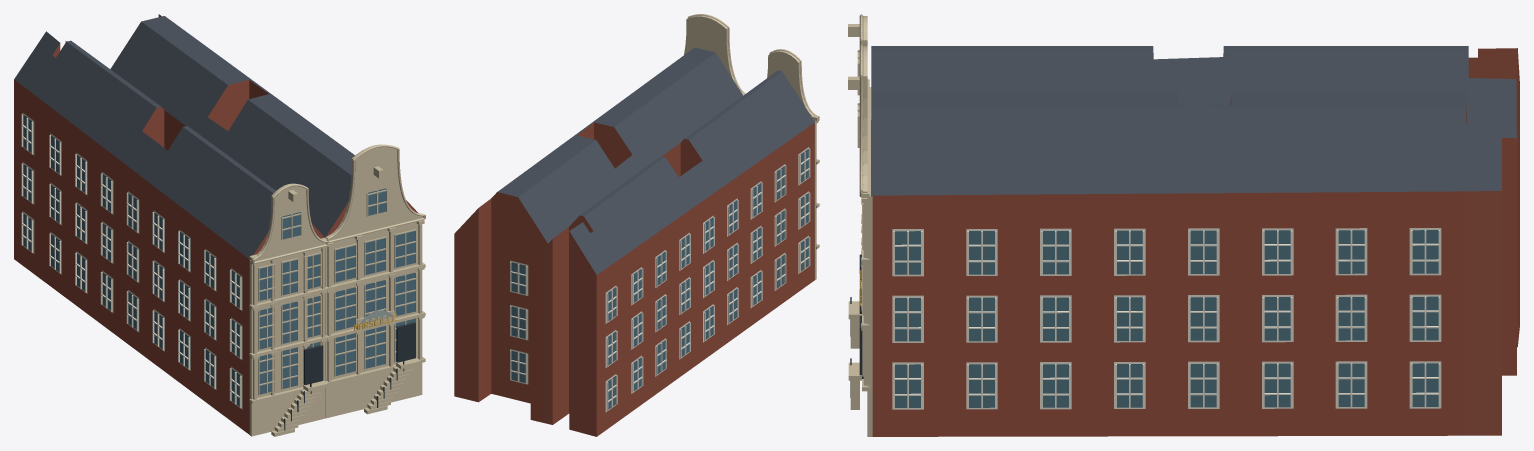
The model's file is huis-marseille.glb.
3 views of the same model, side by side, from view 1: azimuth 30°, elevation 25°; view 2: azimuth 150°, elevation 25°; view 3: azimuth 270°, elevation 25° (orthographic). The views are drawn at different scales.
Visible parts, largest first — view 1: huis-marseille; view 2: huis-marseille; view 3: huis-marseille.
Part boxes in pixels (bbox=[...]): huis-marseille: bbox=[14, 14, 425, 436]; huis-marseille: bbox=[454, 14, 819, 436]; huis-marseille: bbox=[848, 14, 1519, 436].
Bounding box in the file's own units: 13.4 × 19.19 × 32.89.
